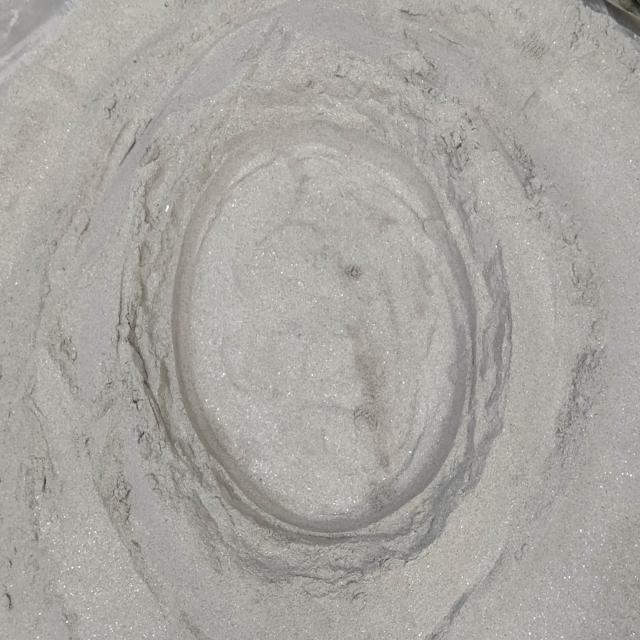C40: (172, 123, 471, 532)
